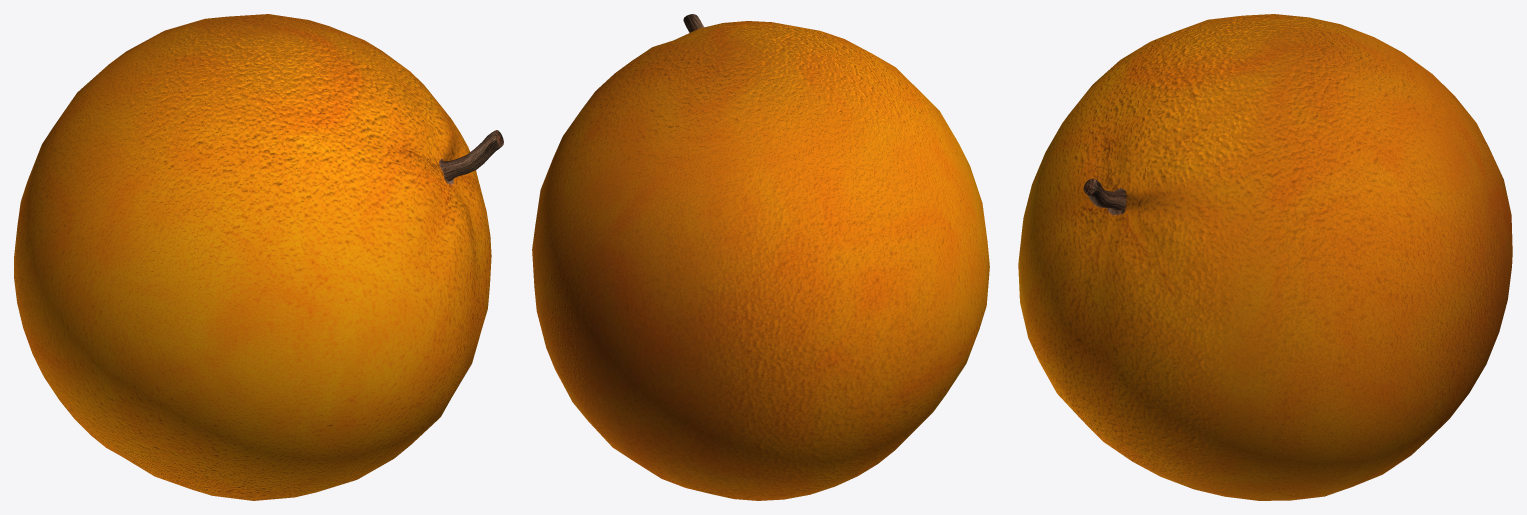
The model's file is naranja.gltf.
The picture shows the model from 3 angles, left to right: view 1: azimuth 30°, elevation 25°; view 2: azimuth 150°, elevation 25°; view 3: azimuth 270°, elevation 25°; orthographic projection. The views are drawn at different scales.
Visible parts, largest first — view 1: ORANGE; view 2: ORANGE; view 3: ORANGE.
Boxes of the visible parts, x1,y1,x2,y2 form: ORANGE: [14, 14, 503, 500]; ORANGE: [532, 14, 989, 500]; ORANGE: [1018, 14, 1512, 500].
Bounding box in the file's own units: 2.96 × 3.03 × 3.05.
Materials: 1 (1 with a texture image).
